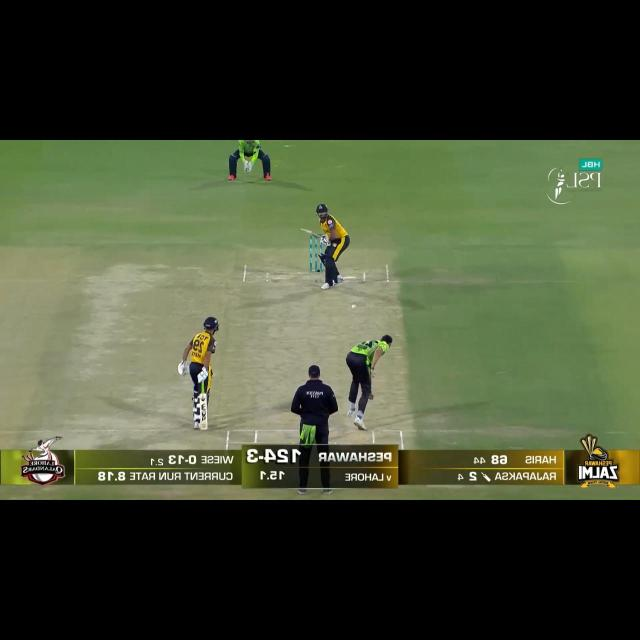bat: (198, 393, 209, 432), (299, 228, 321, 239)
toe: (198, 424, 208, 432), (298, 227, 307, 234)
